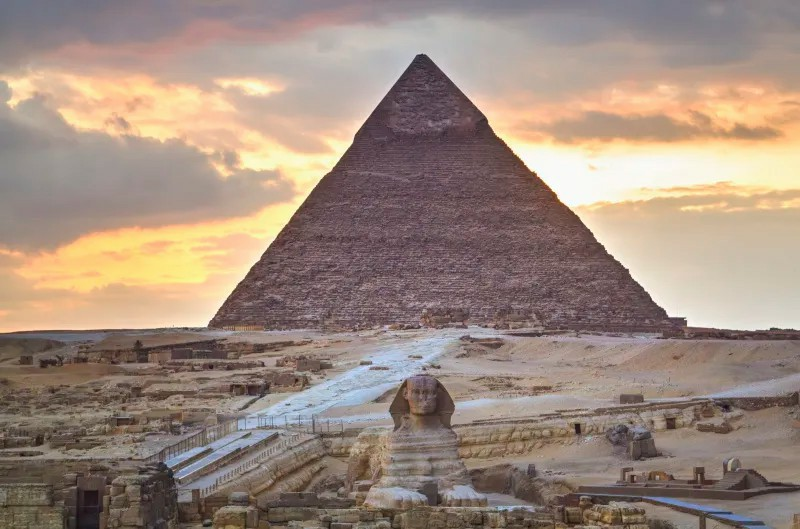Pyramid: (206, 53, 674, 332)
